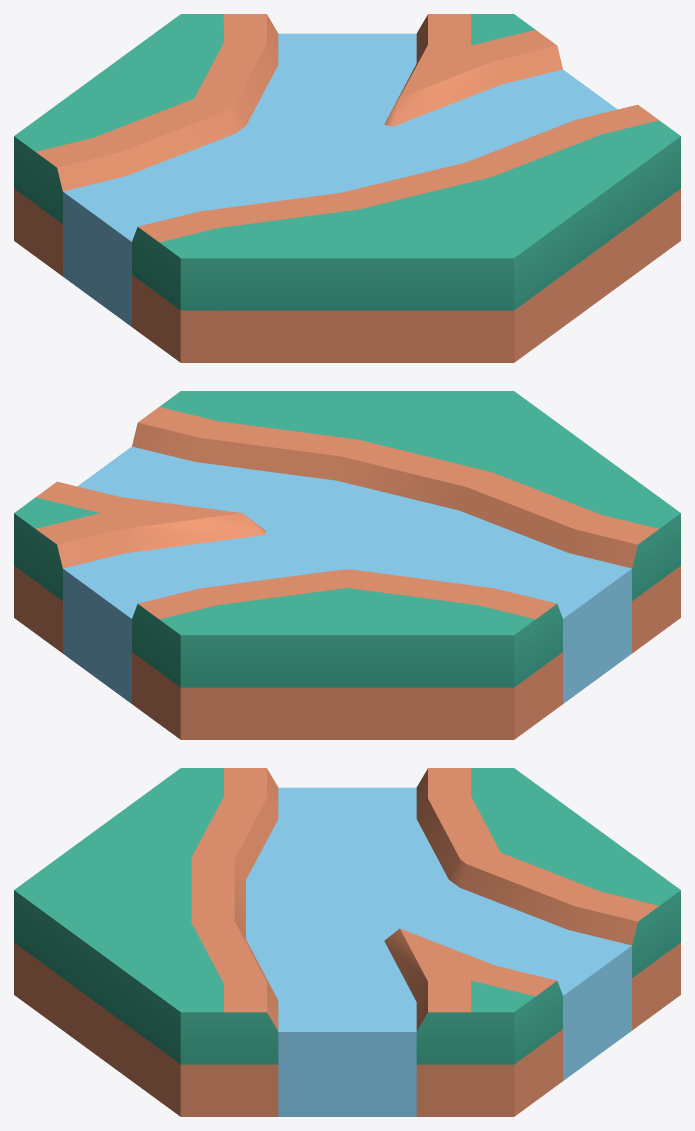
The model's file is river-intersection-b.glb.
3 views of the same model, one above another, from view 1: azimuth 30°, elevation 25°; view 2: azimuth 150°, elevation 25°; view 3: azimuth 270°, elevation 25° (orthographic).
Visible parts, largest first — view 1: river-intersectionB; view 2: river-intersectionB; view 3: river-intersectionB.
Part boxes in pixels (left/top/right/bottom): river-intersectionB: left=14, top=14, right=680, bottom=362; river-intersectionB: left=14, top=391, right=680, bottom=739; river-intersectionB: left=14, top=768, right=680, bottom=1116.
Bounding box in the file's own units: 1 × 0.2 × 1.15.
Materials: 1 (1 with a texture image).
